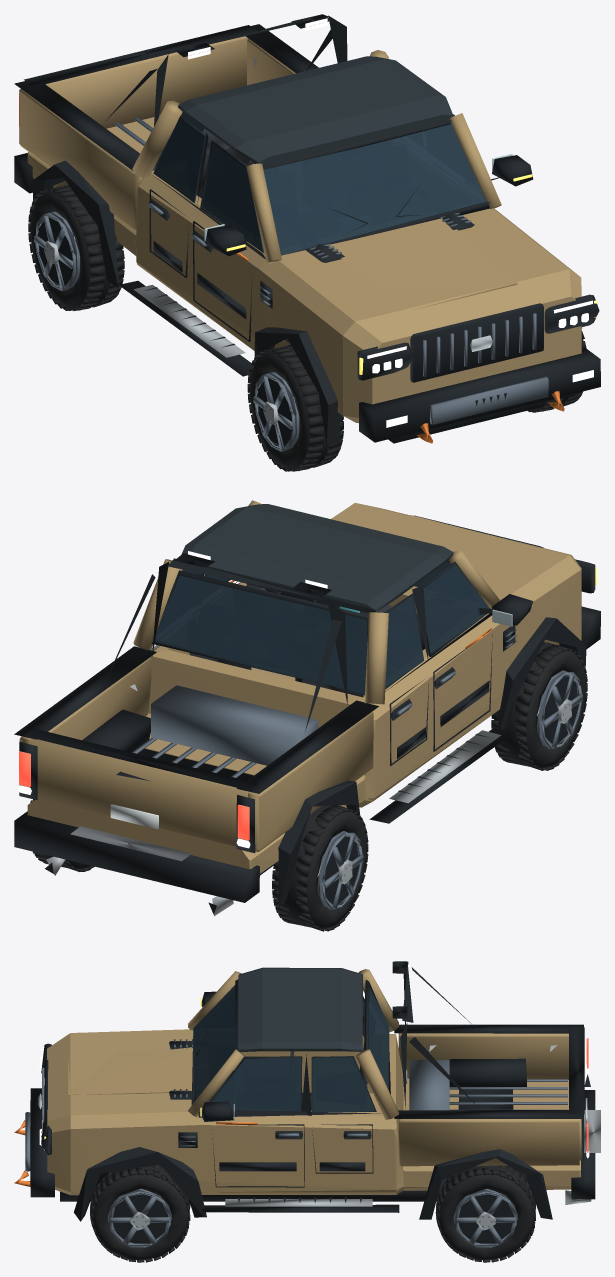
Rendered from mule_ut_lod1.glb.
The picture shows the model from 3 angles, top to bottom: view 1: azimuth 30°, elevation 25°; view 2: azimuth 150°, elevation 25°; view 3: azimuth 270°, elevation 25°; orthographic projection. The views are drawn at different scales.
Visible parts, largest first — view 1: Body__Body_Sandstone, Body__Trim_Charcoal, Body__Glass_Smoke, Body__Roof_Graphite, Wheel_RR__Tyre_Rubber, Wheel_FR__Tyre_Rubber, Body__Metal_Gunmetal, Body__Metal_Brushed, Wheel_FR__Metal_Gunmetal, Wheel_RR__Metal_Gunmetal, Body__LED_White, Wheel_RR__Trim_Charcoal (+2 smaller); view 2: Body__Body_Sandstone, Body__Trim_Charcoal, Body__Glass_Smoke, Body__Roof_Graphite, Cargo_Optional__Metal_Gunmetal, Wheel_RR__Tyre_Rubber, Wheel_FR__Tyre_Rubber, Body__Metal_Brushed, Wheel_RR__Metal_Gunmetal, Wheel_FR__Metal_Gunmetal, Body__Metal_Gunmetal, Wheel_FR__Trim_Charcoal (+4 smaller); view 3: Body__Body_Sandstone, Body__Trim_Charcoal, Body__Glass_Smoke, Body__Roof_Graphite, Wheel_RL__Tyre_Rubber, Wheel_FL__Tyre_Rubber, Body__Metal_Gunmetal, Body__Metal_Brushed, Cargo_Optional__Metal_Gunmetal, Wheel_FL__Metal_Gunmetal, Wheel_RL__Metal_Gunmetal, Wheel_FL__Trim_Charcoal (+1 smaller).
Part boxes in pixels (x1,y1,x2,y2): Body__Body_Sandstone: (19, 36, 581, 423); Body__Trim_Charcoal: (14, 14, 600, 446); Body__Glass_Smoke: (154, 113, 486, 255); Body__Roof_Graphite: (178, 56, 453, 165); Wheel_RR__Tyre_Rubber: (28, 185, 124, 311); Wheel_FR__Tyre_Rubber: (247, 344, 343, 471); Body__Metal_Gunmetal: (114, 113, 548, 424); Body__Metal_Brushed: (133, 57, 492, 357); Wheel_FR__Metal_Gunmetal: (253, 372, 299, 451); Wheel_RR__Metal_Gunmetal: (34, 211, 79, 290); Body__LED_White: (18, 18, 593, 427); Wheel_RR__Trim_Charcoal: (38, 217, 72, 286); Body__Body_Sandstone: (19, 500, 581, 873); Body__Trim_Charcoal: (14, 515, 600, 913); Body__Glass_Smoke: (155, 561, 489, 693); Body__Roof_Graphite: (181, 504, 453, 612); Cargo_Optional__Metal_Gunmetal: (151, 685, 318, 765); Wheel_RR__Tyre_Rubber: (272, 805, 368, 931); Wheel_FR__Tyre_Rubber: (491, 642, 587, 770); Body__Metal_Brushed: (46, 684, 501, 916); Wheel_RR__Metal_Gunmetal: (317, 831, 363, 909); Wheel_FR__Metal_Gunmetal: (537, 670, 582, 748); Body__Metal_Gunmetal: (132, 629, 516, 777); Wheel_FR__Trim_Charcoal: (544, 676, 578, 744); Body__Body_Sandstone: (47, 969, 581, 1195); Body__Trim_Charcoal: (30, 961, 595, 1221); Body__Glass_Smoke: (193, 985, 389, 1111); Body__Roof_Graphite: (238, 967, 362, 1051); Wheel_RL__Tyre_Rubber: (435, 1165, 535, 1262); Wheel_FL__Tyre_Rubber: (90, 1165, 190, 1262); Body__Metal_Gunmetal: (25, 1039, 567, 1171); Body__Metal_Brushed: (38, 1045, 600, 1206); Cargo_Optional__Metal_Gunmetal: (409, 1059, 449, 1110); Wheel_FL__Metal_Gunmetal: (107, 1188, 171, 1247); Wheel_RL__Metal_Gunmetal: (453, 1189, 517, 1247); Wheel_FL__Trim_Charcoal: (113, 1194, 168, 1243).
Bounding box in the file's own units: 2.61 × 2.25 × 5.4.
